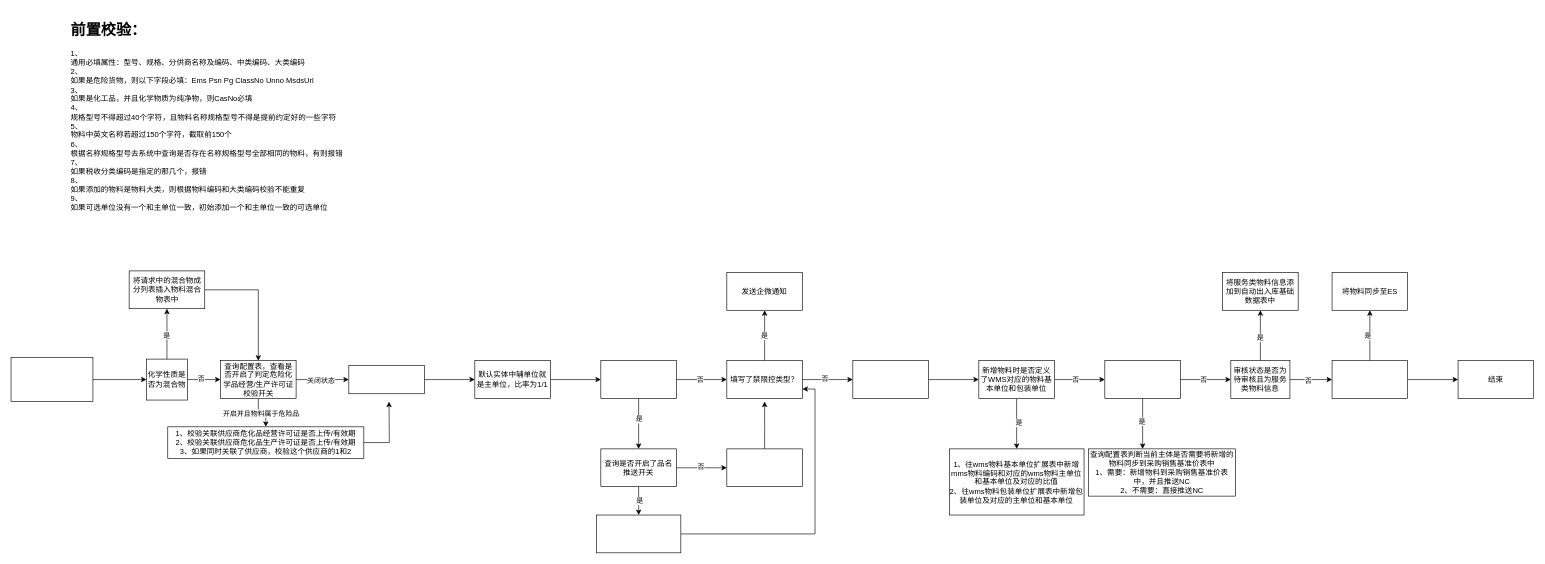
The diagram is 1545 pixels wide and 564 high, and some of its shapes have lost their labels. The centre of each missing label's shape, as x and y in pixels:
"保存构建的物料实体和可选单位集合" goes at [890,379].
"审核状态为已通过" goes at [1369,379].
"将供应商信息插入物料供应商表，并关联" goes at [386,379].
"将改物料的审批状态自动设为审批通过" goes at [764,467].
"是否为危险品/危险货物/化工品任意一个？" goes at [638,379].
"校验物料是否检验过禁限控，如果未检验过，发起品名禁限控审核" goes at [638,533].
"状态为审核通过并且NC物料编码为空" goes at [1142,379].
"生成物料编码：根据是否组走不同的生成规则，如果是组，生成好物料编码后还要构建子物料，建立关联" goes at [51,379].
